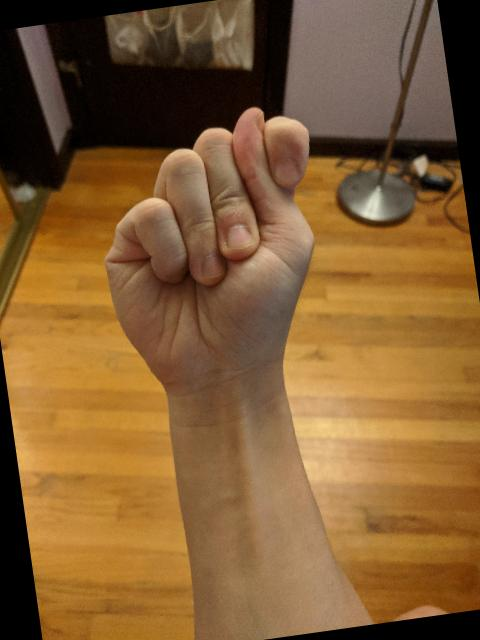T: (81, 94, 351, 417)
